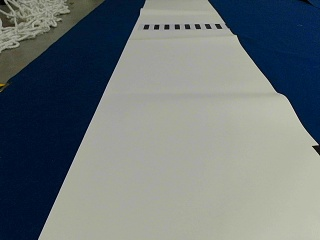crosswalk: (144, 22, 221, 29)
